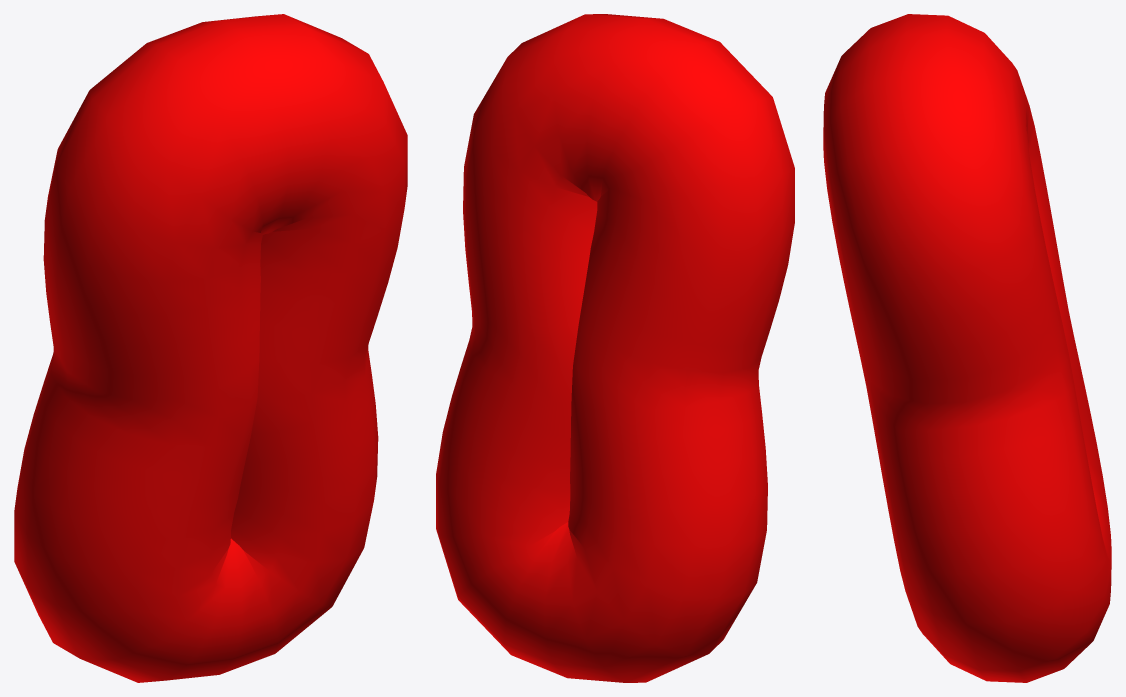
Rendered from Mouth3.glb.
3 views of the same model, side by side, from view 1: azimuth 30°, elevation 25°; view 2: azimuth 150°, elevation 25°; view 3: azimuth 270°, elevation 25° (orthographic). The views are drawn at different scales.
Parts seen in each view (by area): view 1: Mouth3; view 2: Mouth3; view 3: Mouth3.
Boxes of the visible parts, <box> form: Mouth3: <box>14,14,407,682</box>; Mouth3: <box>436,14,794,682</box>; Mouth3: <box>823,14,1111,682</box>.
Bounding box in the file's own units: 28.09 × 53.87 × 22.45.
